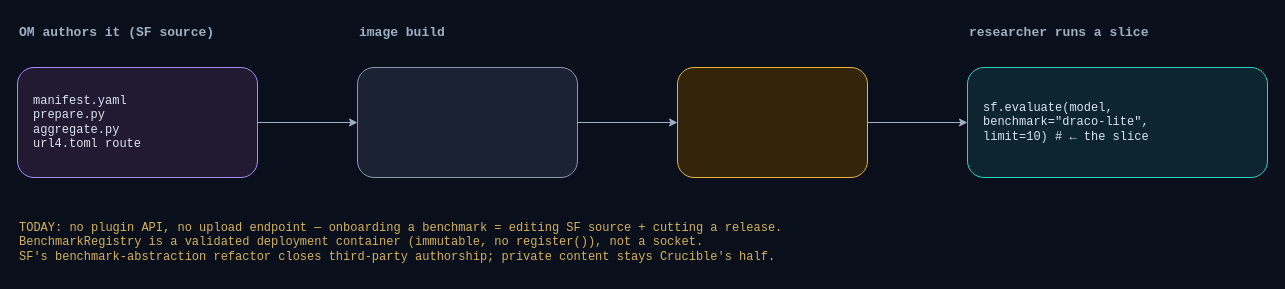
Some shapes in this 1285 by 289 pixel diagram are drawn without their labels. The shapes that lost their labels are listed below. From the top down, each one's centre as x and y in pixels, then its label:
At point 467,122: "docker build (cases baked into the image)".
At point 772,122: "runner image (the menu)".
